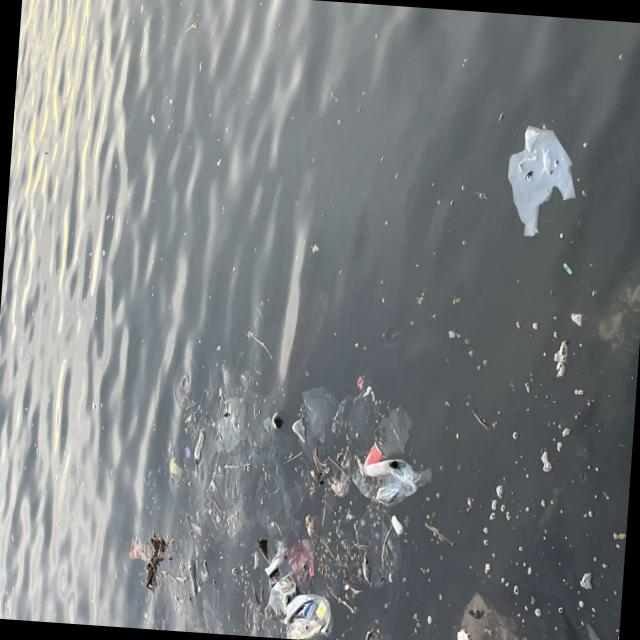foam: (390, 514, 407, 535), (455, 629, 469, 640)
plastic bottle: (365, 458, 400, 477)
